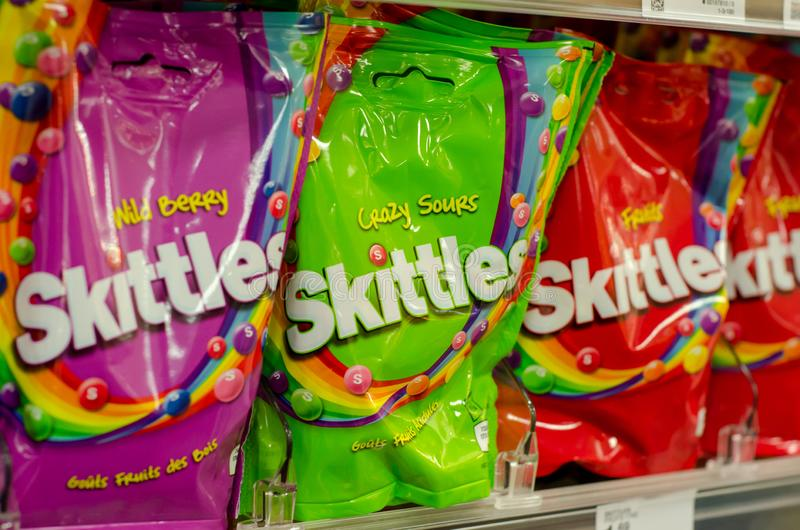skittles: (261, 24, 544, 495)
